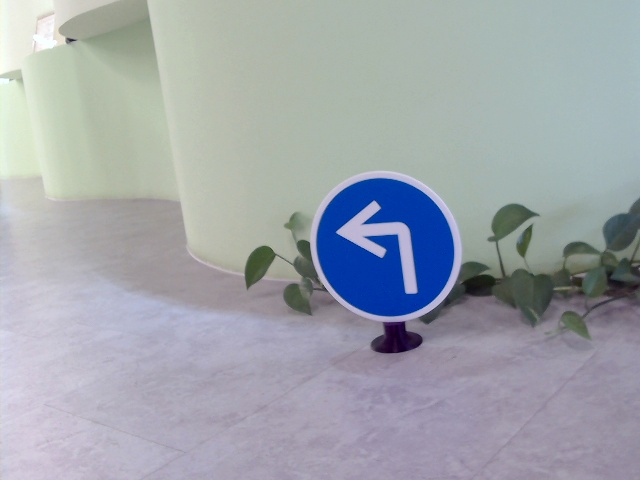turn_left: (337, 201, 428, 295)
